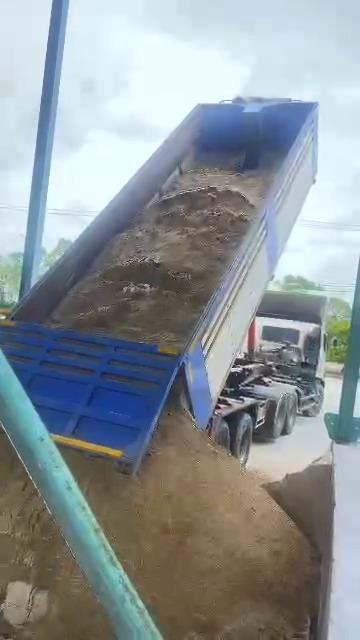sand: (65, 405, 317, 639), (48, 166, 273, 346), (0, 435, 110, 639), (267, 452, 331, 553)
